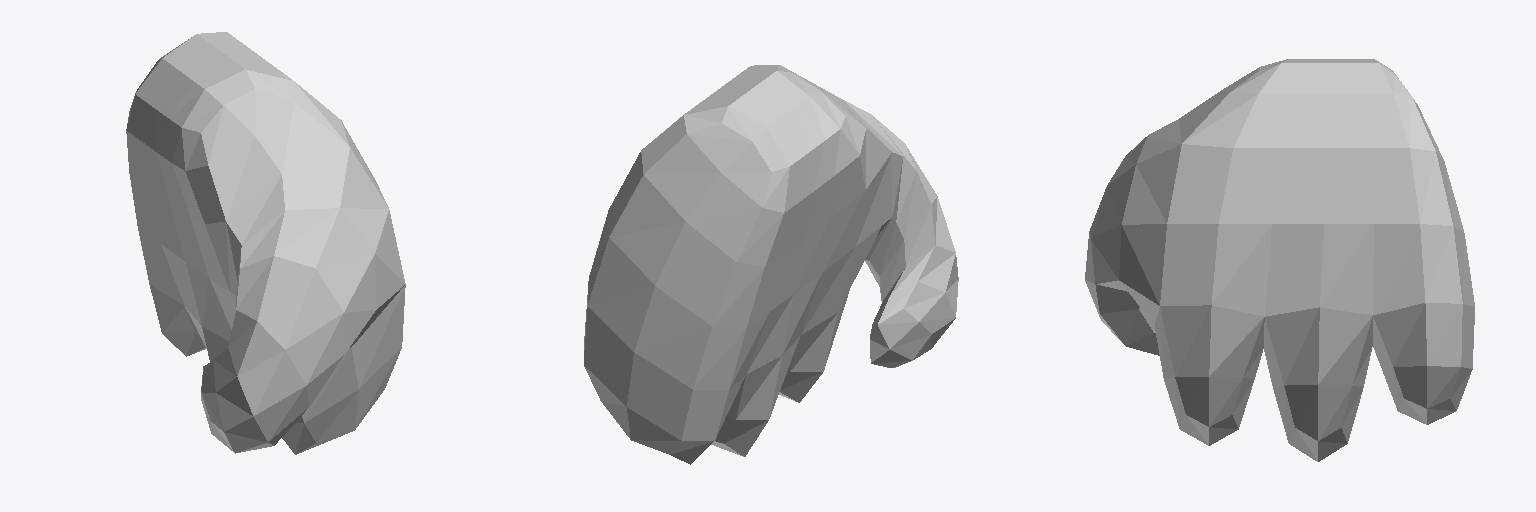
The model's file is player_r_hand.obj.
3 views of the same model, side by side, from view 1: azimuth 30°, elevation 25°; view 2: azimuth 150°, elevation 25°; view 3: azimuth 270°, elevation 25° (orthographic).
Parts seen in each view (by area): view 1: Box003; view 2: Box003; view 3: Box003.
Part boxes in pixels (left/top/right/bottom): Box003: left=126, top=32, right=405, bottom=454; Box003: left=584, top=65, right=958, bottom=464; Box003: left=1085, top=59, right=1474, bottom=461.
Bounding box in the file's own units: 5.03 × 8.22 × 7.72.